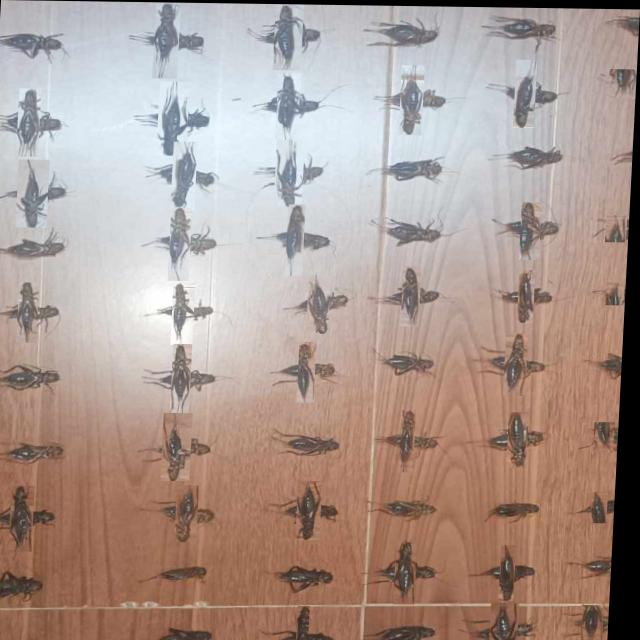egg: (157, 80, 188, 155), (483, 14, 556, 43), (18, 159, 48, 227), (153, 3, 179, 78), (273, 3, 302, 69), (167, 412, 195, 480), (277, 138, 304, 207), (364, 21, 437, 46), (172, 141, 197, 209), (0, 235, 67, 260), (17, 89, 41, 156), (171, 207, 193, 280), (0, 365, 63, 390), (401, 63, 423, 134), (277, 73, 301, 138), (0, 34, 64, 58), (15, 486, 38, 552), (386, 218, 444, 244), (514, 58, 536, 126), (507, 331, 530, 394), (500, 144, 563, 167), (283, 565, 338, 591), (0, 443, 68, 464), (302, 480, 326, 539), (399, 539, 421, 603), (279, 432, 343, 454), (174, 283, 197, 344), (174, 344, 194, 414), (288, 204, 307, 275), (310, 273, 332, 333), (0, 572, 48, 599), (383, 158, 444, 179), (20, 283, 41, 343), (180, 484, 202, 541), (522, 201, 543, 258), (371, 624, 442, 640), (301, 341, 319, 402), (404, 265, 422, 325), (387, 351, 438, 372), (378, 500, 441, 517), (512, 410, 531, 466), (496, 601, 523, 640), (404, 409, 420, 471), (504, 542, 520, 599), (520, 267, 536, 321), (609, 68, 637, 96), (495, 501, 545, 516), (587, 604, 609, 638), (155, 567, 212, 580), (577, 555, 618, 573), (159, 628, 219, 640), (597, 421, 619, 450), (599, 352, 626, 375), (607, 213, 628, 240), (302, 605, 316, 640), (596, 489, 611, 521), (612, 15, 640, 32), (607, 280, 626, 303), (617, 148, 634, 159), (514, 565, 523, 580)
